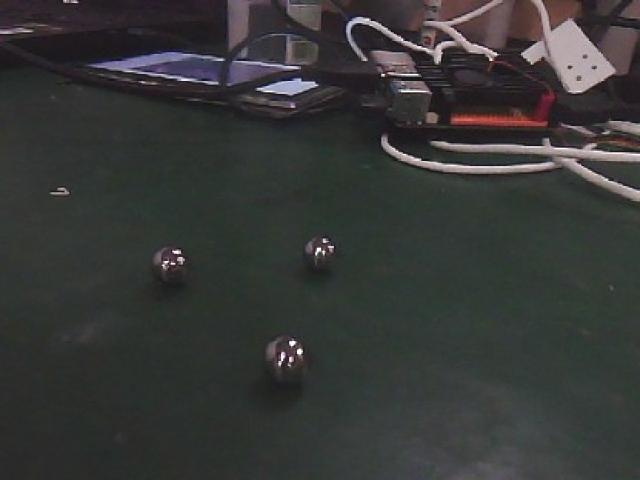steel-ball: (248, 314, 320, 391), (142, 229, 208, 297), (283, 220, 354, 278)
